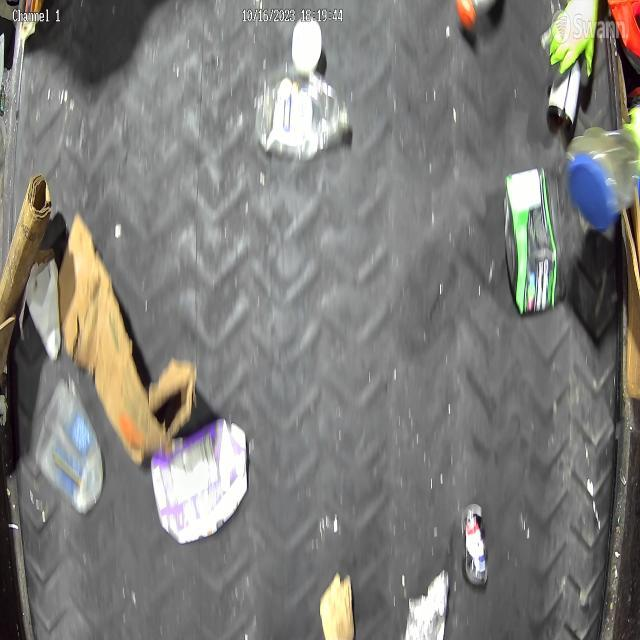can: (463, 502, 488, 590)
non_white_jug: (150, 418, 248, 543), (504, 167, 567, 316)
plastic_bottle: (255, 76, 352, 154)
